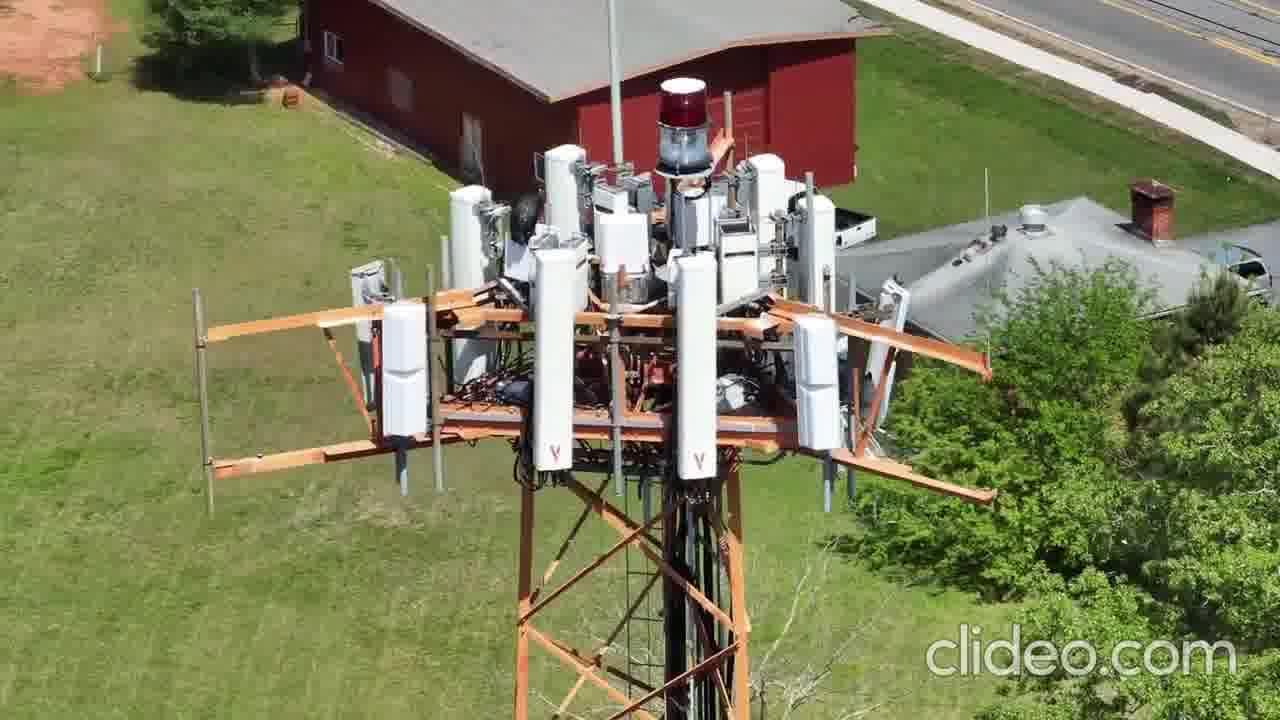antenna: (520, 237, 580, 478), (664, 243, 721, 484), (851, 261, 919, 444), (375, 299, 444, 446), (787, 307, 851, 460), (337, 257, 399, 410), (788, 184, 847, 303), (438, 179, 495, 300), (543, 132, 594, 231), (589, 207, 657, 280), (744, 149, 791, 227)
